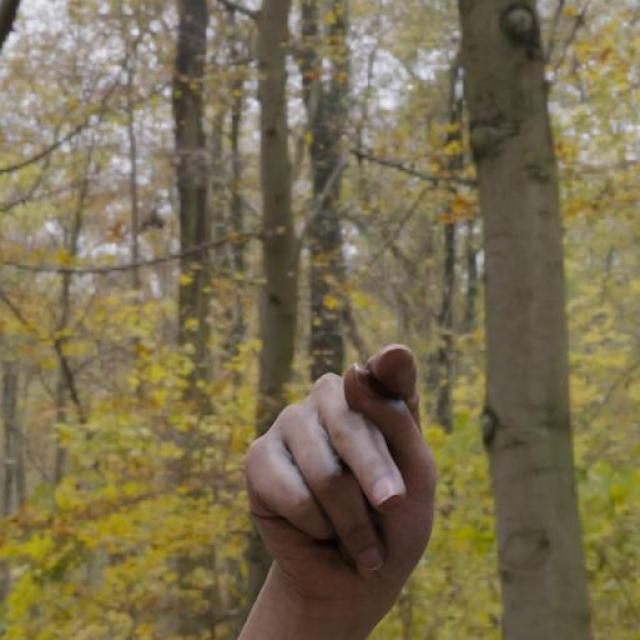P: (241, 339, 441, 609)
